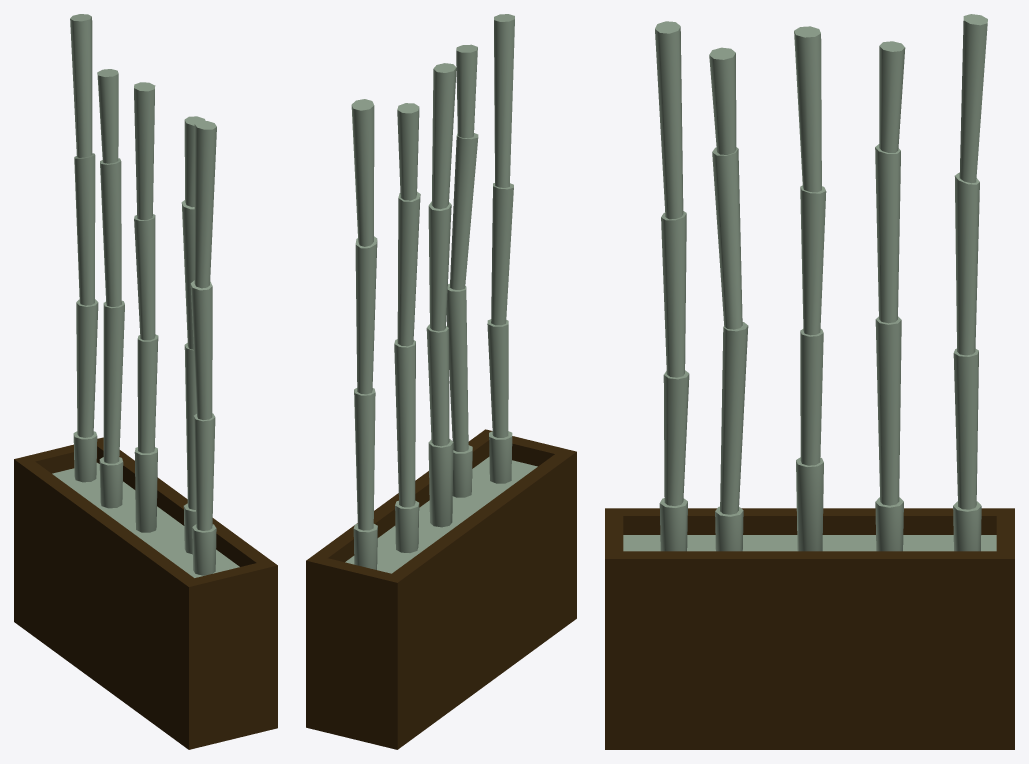
The model's file is small_bamboo_deco.glb.
3 renders of one model, left to right at view 1: azimuth 30°, elevation 25°; view 2: azimuth 150°, elevation 25°; view 3: azimuth 270°, elevation 25°, orthographic. The views are drawn at different scales.
Parts seen in each view (by area): view 1: small_bamboo_deco, Bamboo 1; view 2: small_bamboo_deco, Bamboo 1; view 3: small_bamboo_deco, Bamboo 1.
Part boxes in pixels (x1=…): small_bamboo_deco: x1=14, y1=437, x2=277, y2=749; Bamboo 1: x1=70, y1=14, x2=216, y2=575; small_bamboo_deco: x1=306, y1=429, x2=576, y2=749; Bamboo 1: x1=351, y1=14, x2=514, y2=569; small_bamboo_deco: x1=605, y1=508, x2=1014, y2=749; Bamboo 1: x1=655, y1=14, x2=987, y2=551.
Size of the model in its own units: 0.375 by 2.44 by 1.28.
1 material, 1 textured.
